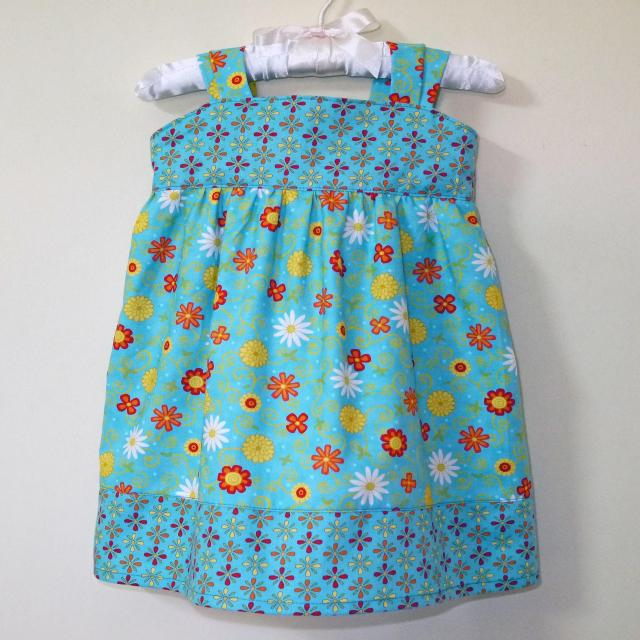Dress: (95, 48, 548, 617)
